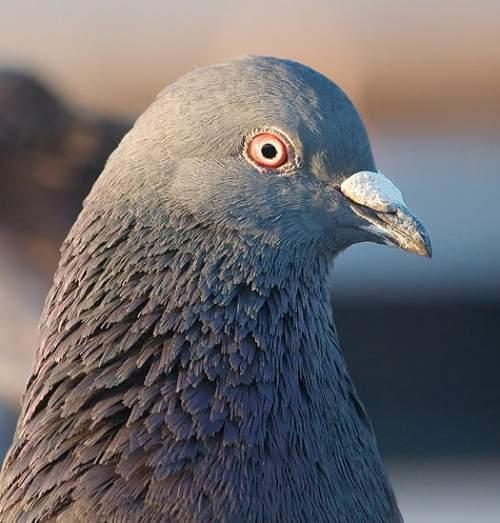Flying Rat: (1, 51, 424, 523)
